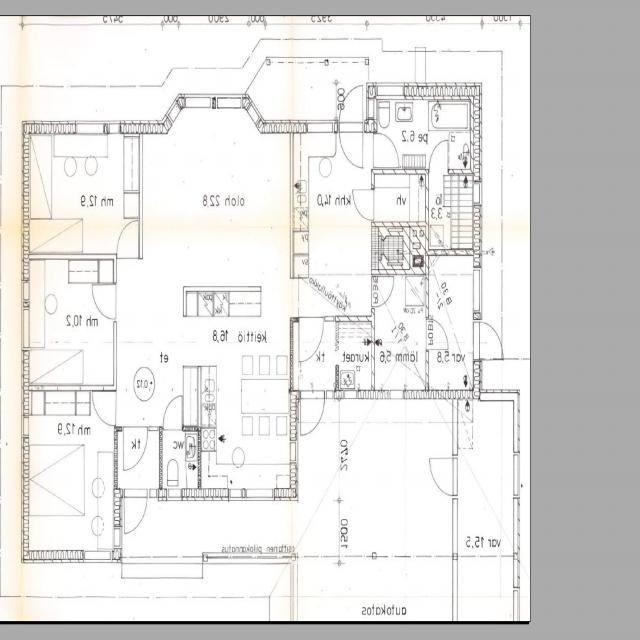door: (473, 322, 506, 360), (124, 488, 148, 538), (300, 390, 324, 439), (123, 426, 148, 471), (340, 119, 362, 170), (340, 82, 362, 133), (429, 458, 458, 496), (300, 316, 324, 359), (92, 284, 118, 318), (93, 392, 118, 425), (374, 134, 398, 168), (118, 222, 139, 258), (429, 139, 448, 174), (426, 319, 448, 349), (374, 276, 396, 306), (355, 190, 377, 219), (164, 396, 182, 431)
